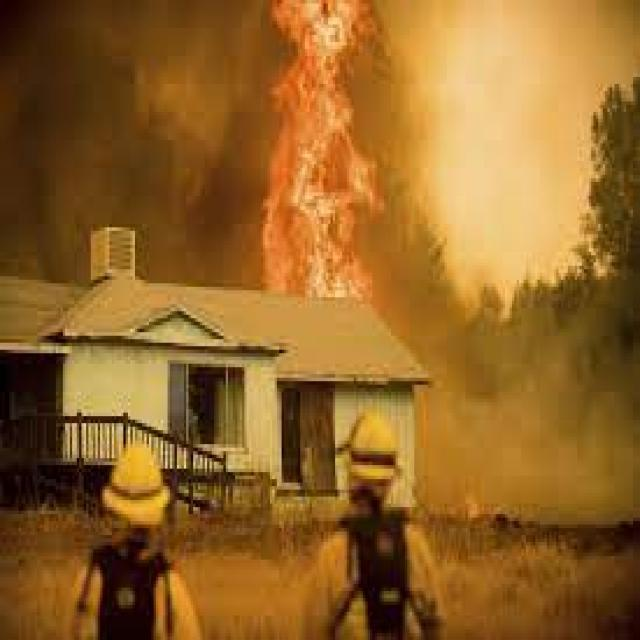Fire: (267, 0, 377, 307)
Smoke: (0, 0, 265, 220)
